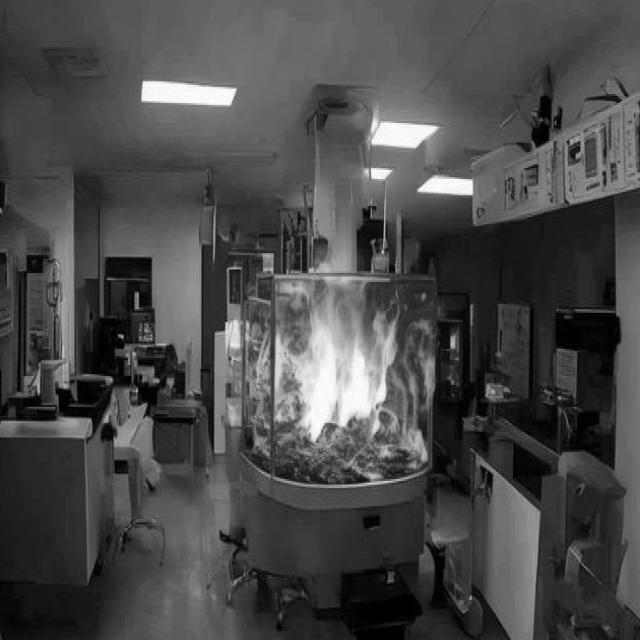smoke: (246, 231, 431, 472)
